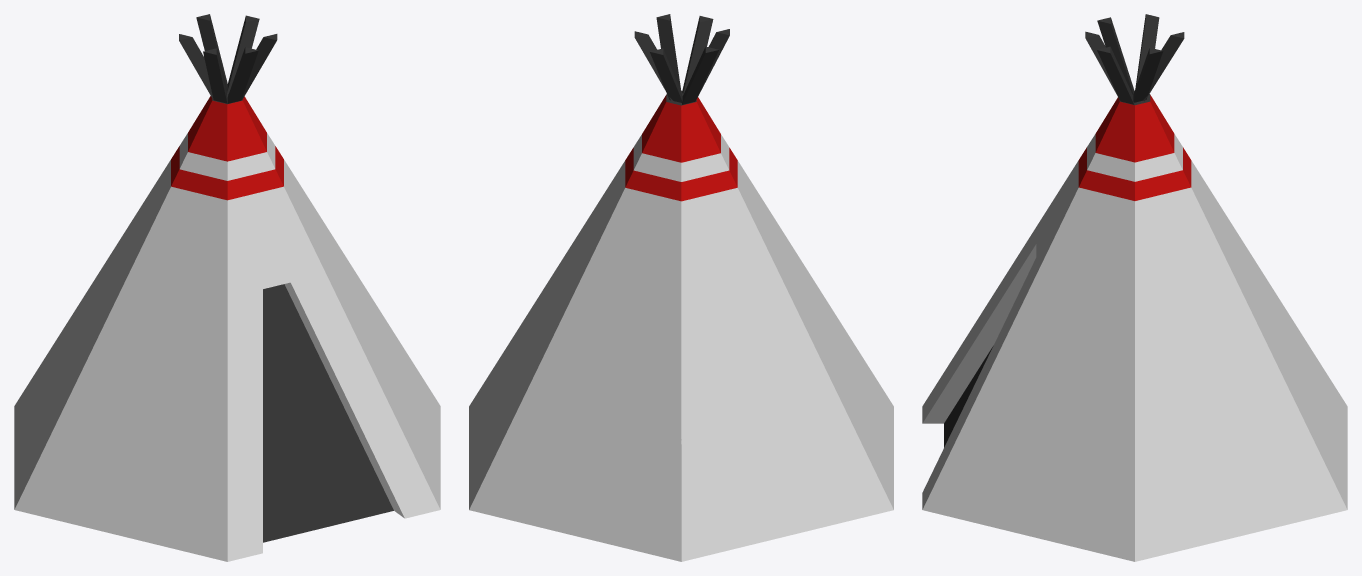
The model's file is tent-teepee_01.fbx.
3 renders of one model, left to right at view 1: azimuth 30°, elevation 25°; view 2: azimuth 150°, elevation 25°; view 3: azimuth 270°, elevation 25°, orthographic.
Visible parts, largest first — view 1: tent-teepee_01; view 2: tent-teepee_01; view 3: tent-teepee_01.
Part boxes in pixels (x1,y1,x2,y2): tent-teepee_01: (14, 14, 440, 561); tent-teepee_01: (469, 14, 893, 561); tent-teepee_01: (922, 14, 1347, 561).
Bounding box in the file's own units: 320 × 304 × 277.
